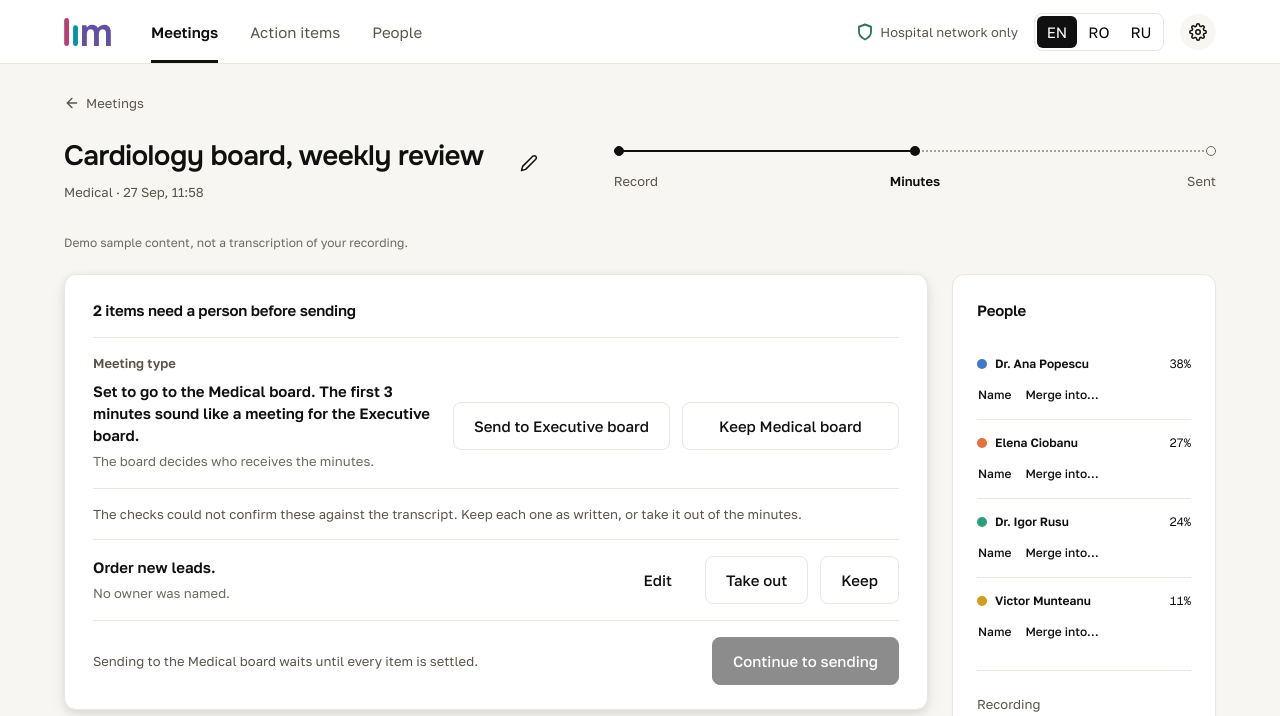
Test case: the meeting-type check › says where the minutes go after each choice and counts only open items
Expected: the heading "2 items need a person before sending" is shown, [93,301,356,319]
Expected: the text "Set to go to the Medical board. The first 3 minutes sound like a meeting for the Executive board." is shown, [93,382,430,444]
Click the button "Send to Executive board": (561, 426) [453,402,670,450]
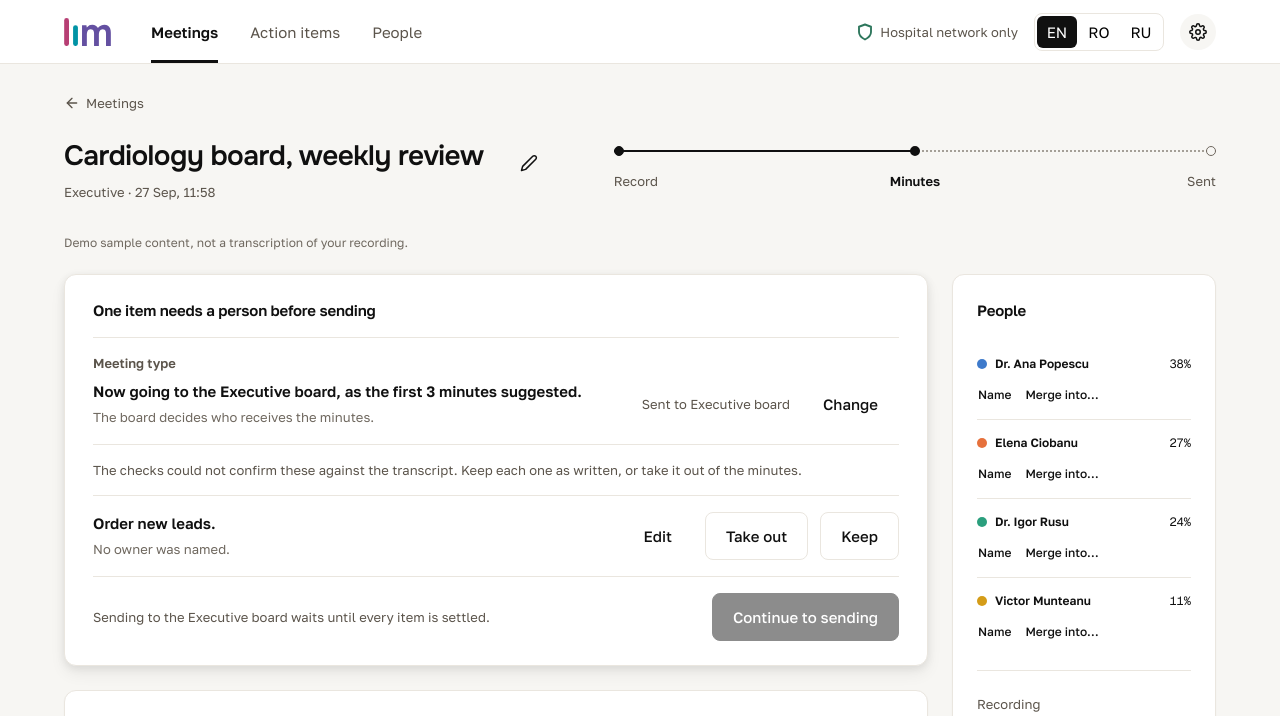
Now the text "Sent to Executive board" is shown, box [642,393,790,415]
Now the text "Now going to the Executive board, as the first 3 minutes suggested." is shown, box [93,382,582,400]
Now the heading "One item needs a person before sending" is shown, box [93,301,376,319]
Click the button with aria-label "Keep: Order new leads.": (860, 536) [820,512,899,560]
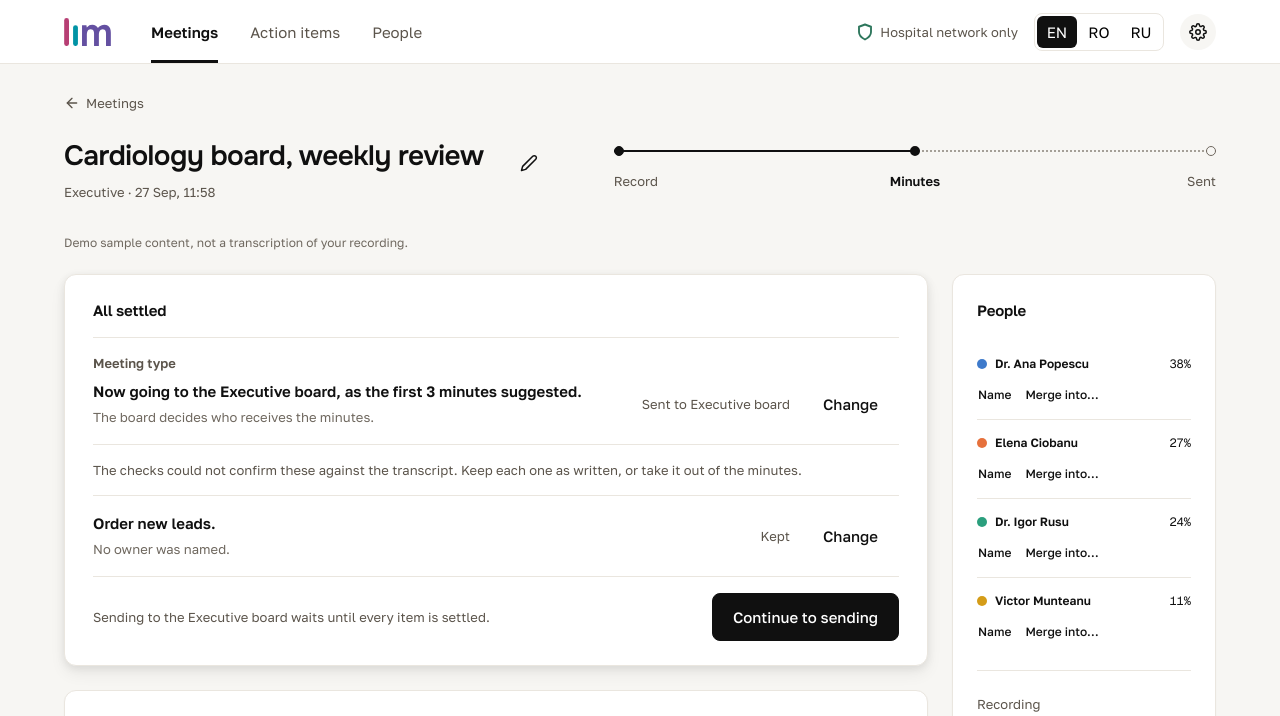
Now the heading "All settled" is shown, box [93,301,166,319]
